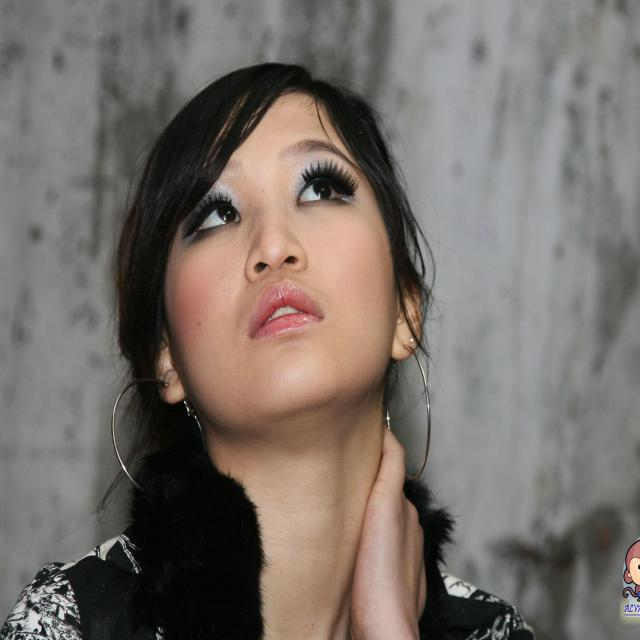no-glass: (190, 176, 357, 239)
